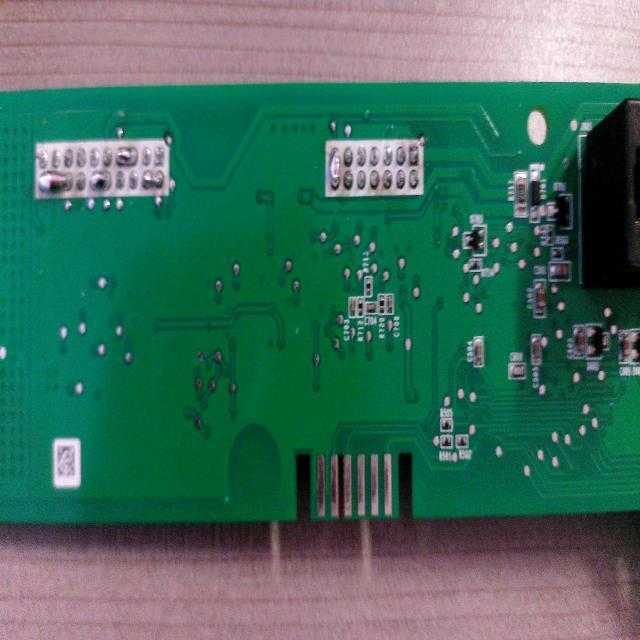Soldering shorted: (35, 170, 74, 196), (141, 169, 166, 194), (89, 170, 112, 197), (328, 147, 343, 188), (114, 146, 140, 168)
